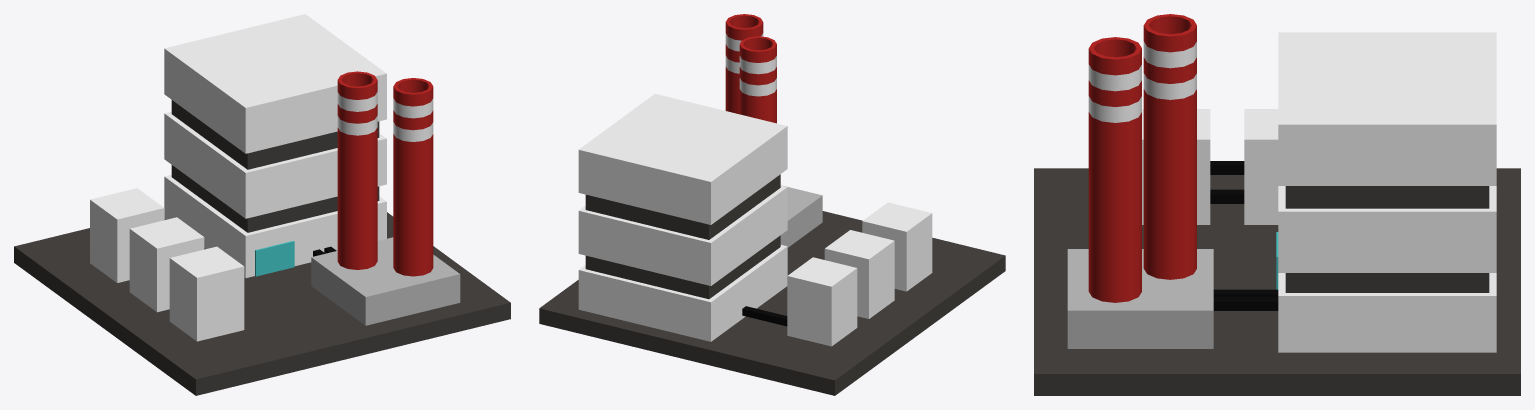
File: Small Power Plant.fbx
3 renders of one model, left to right at view 1: azimuth 30°, elevation 25°; view 2: azimuth 150°, elevation 25°; view 3: azimuth 270°, elevation 25°, orthographic. The views are drawn at different scales.
Visible parts, largest first — view 1: Cube, Cube_3, Cube_2, Pipe, Pipe__1_, Power_Generation_Thing, Cube_1, Generator_Storage_3, Generator_Storage_2, Generator_Storage_1, Cut_2, Cut (+1 smaller); view 2: Cube, Cube_3, Cube_2, Cube_1, Generator_Storage_1, Generator_Storage_3, Generator_Storage_2, Pipe, Cut_2, Cut, Pipe__1_, Power_Generation_Thing (+1 smaller); view 3: Cube, Cube_3, Cube_2, Pipe__1_, Pipe, Cube_1, Power_Generation_Thing, Cut_2, Cut, Generator_Storage_2, Generator_Storage_3, Cable_2 (+3 smaller).
Boxes of the visible parts, left/top/right/bottom form: Cube: left=14, top=212, right=510, bottom=395; Cube_3: left=164, top=14, right=386, bottom=153; Cube_2: left=164, top=111, right=386, bottom=218; Pipe: left=337, top=71, right=377, bottom=269; Pipe__1_: left=393, top=78, right=433, bottom=276; Power_Generation_Thing: left=311, top=237, right=460, bottom=325; Cube_1: left=164, top=174, right=386, bottom=277; Generator_Storage_3: left=169, top=246, right=244, bottom=341; Generator_Storage_2: left=129, top=217, right=204, bottom=312; Generator_Storage_1: left=90, top=188, right=164, bottom=282; Cut_2: left=171, top=100, right=379, bottom=169; Cut: left=171, top=165, right=379, bottom=232; Cube: left=539, top=211, right=1005, bottom=395; Cube_3: left=578, top=94, right=787, bottom=224; Cube_2: left=578, top=185, right=787, bottom=285; Cube_1: left=578, top=245, right=787, bottom=341; Generator_Storage_1: left=787, top=257, right=857, bottom=346; Generator_Storage_3: left=862, top=202, right=932, bottom=291; Generator_Storage_2: left=824, top=230, right=894, bottom=318; Pipe: left=739, top=36, right=776, bottom=123; Cut_2: left=585, top=174, right=780, bottom=239; Cut: left=585, top=235, right=780, bottom=299; Pipe__1_: left=725, top=14, right=763, bottom=114; Power_Generation_Thing: left=780, top=185, right=822, bottom=247; Cube: left=1034, top=168, right=1520, bottom=395; Cube_3: left=1278, top=32, right=1496, bottom=185; Cube_2: left=1278, top=186, right=1496, bottom=272; Pipe__1_: left=1088, top=37, right=1141, bottom=302; Pipe: left=1143, top=14, right=1196, bottom=279; Cube_1: left=1278, top=273, right=1496, bottom=352; Power_Generation_Thing: left=1067, top=249, right=1213, bottom=348; Cut_2: left=1285, top=186, right=1489, bottom=208; Cut: left=1285, top=273, right=1489, bottom=292; Generator_Storage_2: left=1244, top=109, right=1278, bottom=224; Generator_Storage_3: left=1142, top=109, right=1210, bottom=224; Cable_2: left=1213, top=297, right=1278, bottom=310.
Bounding box in the file's own units: 100 × 68.89 × 100.
